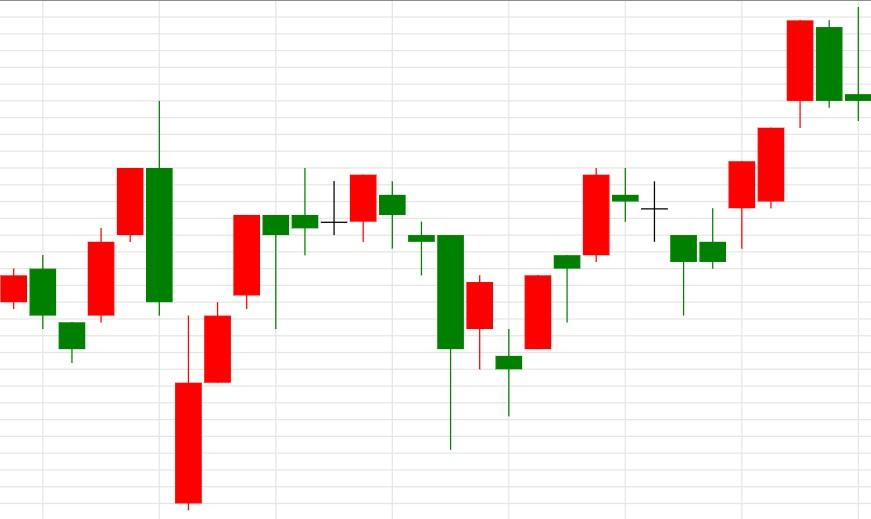bearish_engulfing_fall: (58, 100, 173, 363)
three_white_soldiers_rise: (146, 99, 261, 511)
